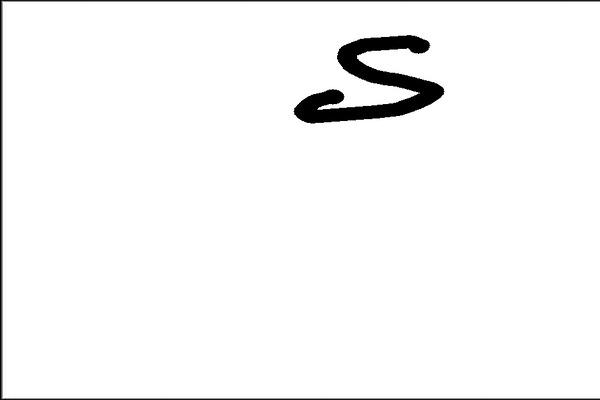S: (291, 14, 456, 137)
